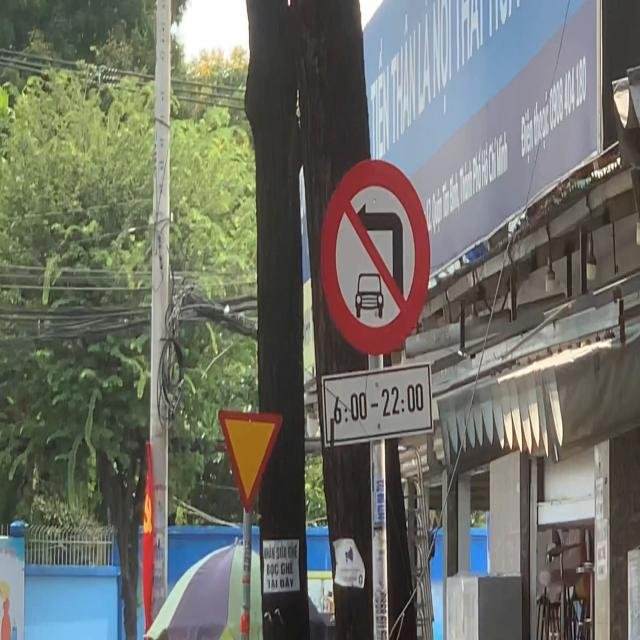Cam re trai: (320, 156, 430, 357)
Giao voi duong uu tien: (216, 405, 286, 520)
